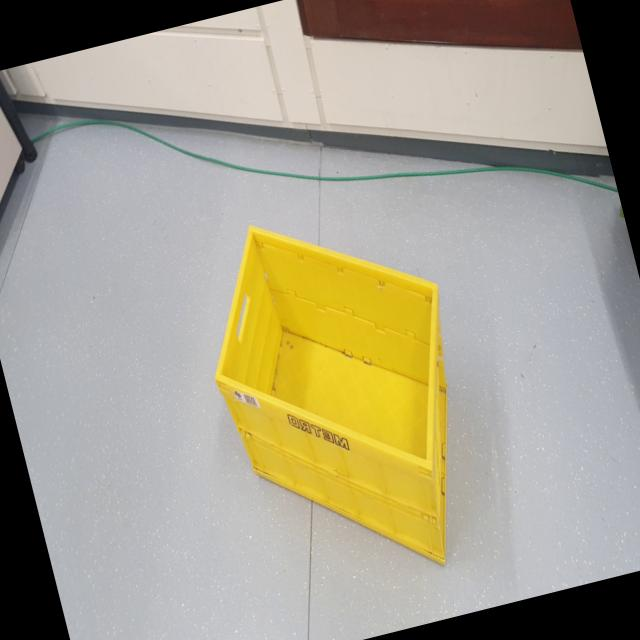box: (174, 168, 512, 613)
